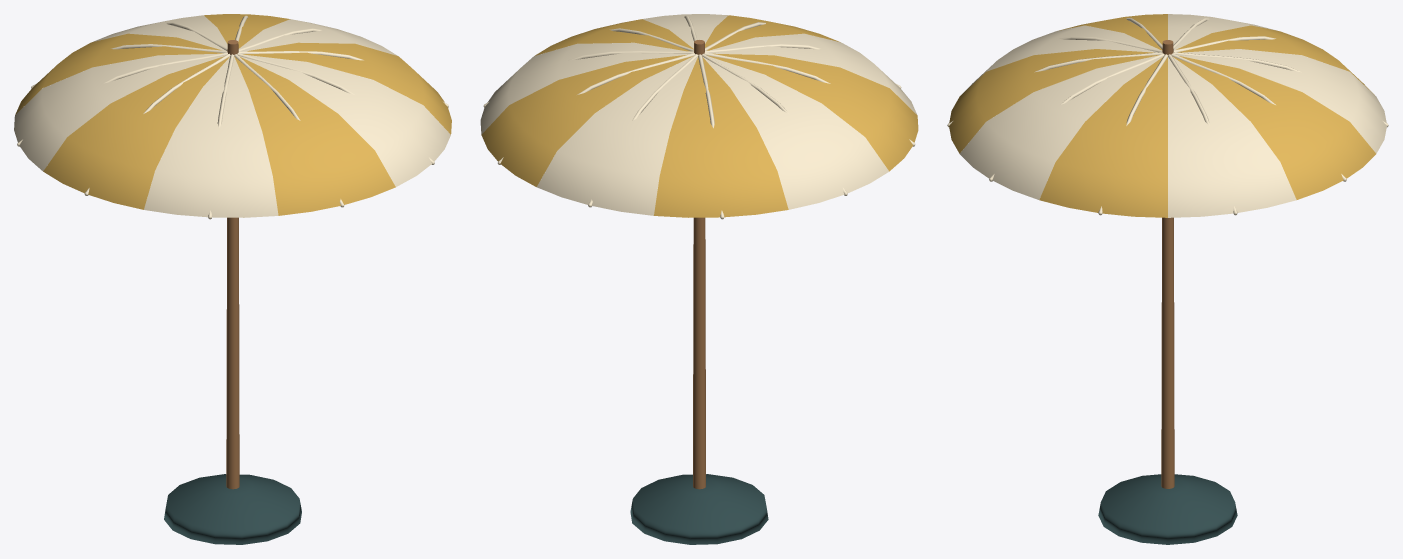
Rendered from almanac-gardens-garden-parasol-900012bd__22074.glb.
3 views of the same model, side by side, from view 1: azimuth 30°, elevation 25°; view 2: azimuth 150°, elevation 25°; view 3: azimuth 270°, elevation 25° (orthographic).
Visible parts, largest first — view 1: garden-parasol-ivory, garden-parasol-gold, garden-parasol-iron, garden-parasol-oak; view 2: garden-parasol-ivory, garden-parasol-gold, garden-parasol-iron, garden-parasol-oak; view 3: garden-parasol-ivory, garden-parasol-gold, garden-parasol-iron, garden-parasol-oak.
Boxes of the visible parts, bbox=[...] form: garden-parasol-ivory: bbox=[14, 15, 450, 219]; garden-parasol-gold: bbox=[15, 14, 451, 215]; garden-parasol-iron: bbox=[164, 474, 301, 544]; garden-parasol-oak: bbox=[226, 40, 239, 489]; garden-parasol-ivory: bbox=[480, 14, 916, 219]; garden-parasol-gold: bbox=[481, 15, 918, 217]; garden-parasol-iron: bbox=[630, 474, 768, 544]; garden-parasol-oak: bbox=[693, 40, 705, 489]; garden-parasol-ivory: bbox=[947, 14, 1388, 217]; garden-parasol-gold: bbox=[949, 14, 1375, 217]; garden-parasol-iron: bbox=[1098, 474, 1237, 544]; garden-parasol-oak: bbox=[1161, 40, 1174, 488].
Bounding box in the file's own units: 1.76 × 2.1 × 1.77.
